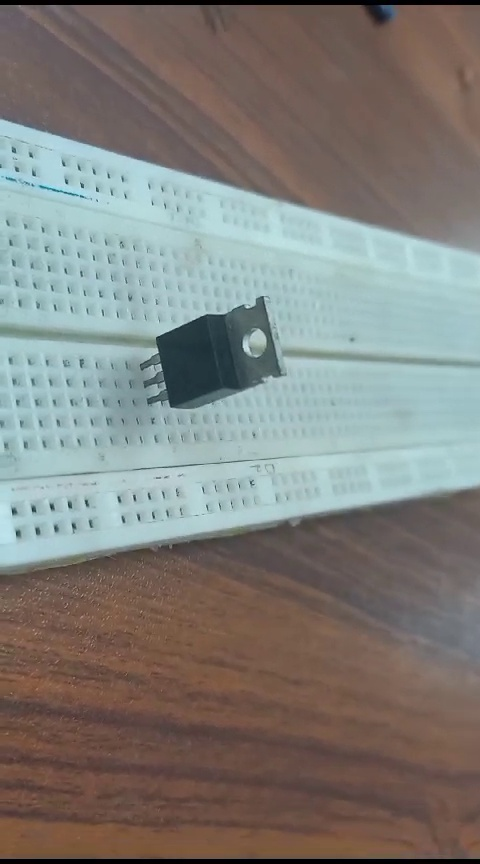voltage regulator: (125, 301, 292, 413)
